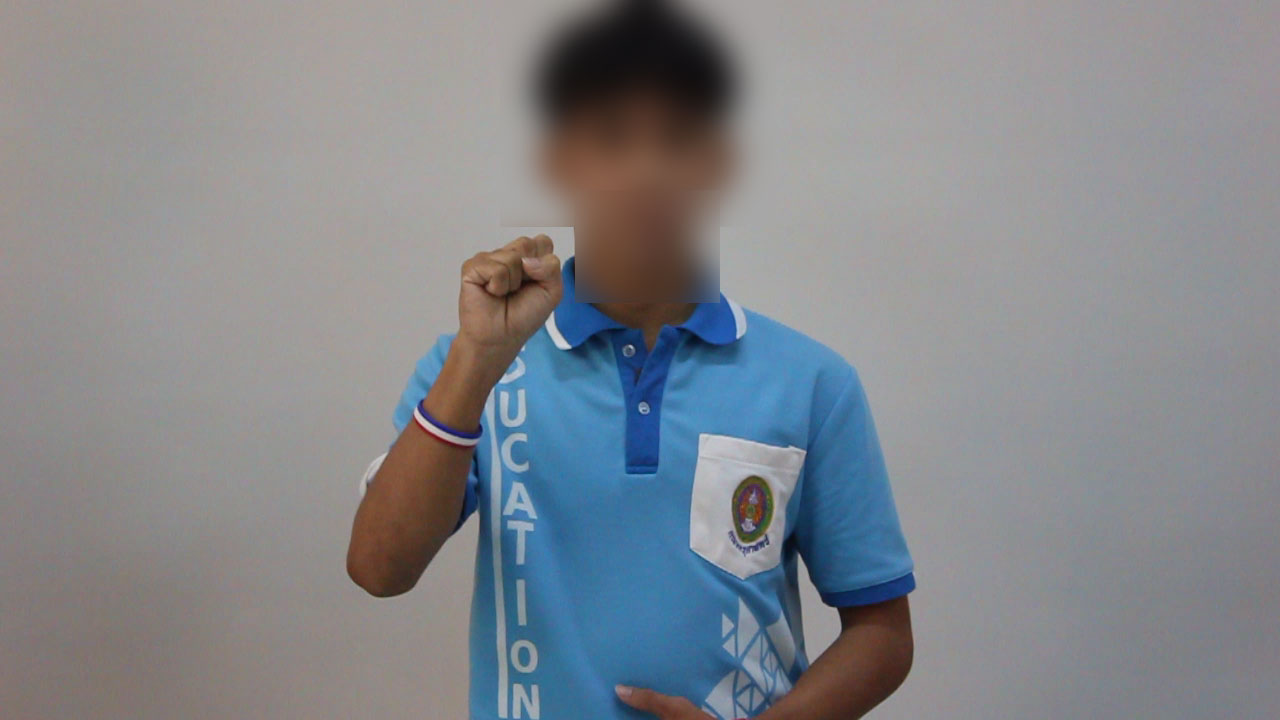sor: (442, 222, 573, 373)
